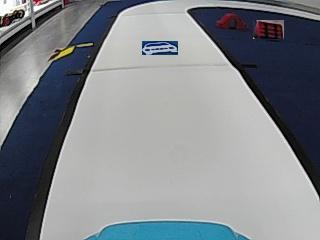bridge: (215, 13, 246, 29)
